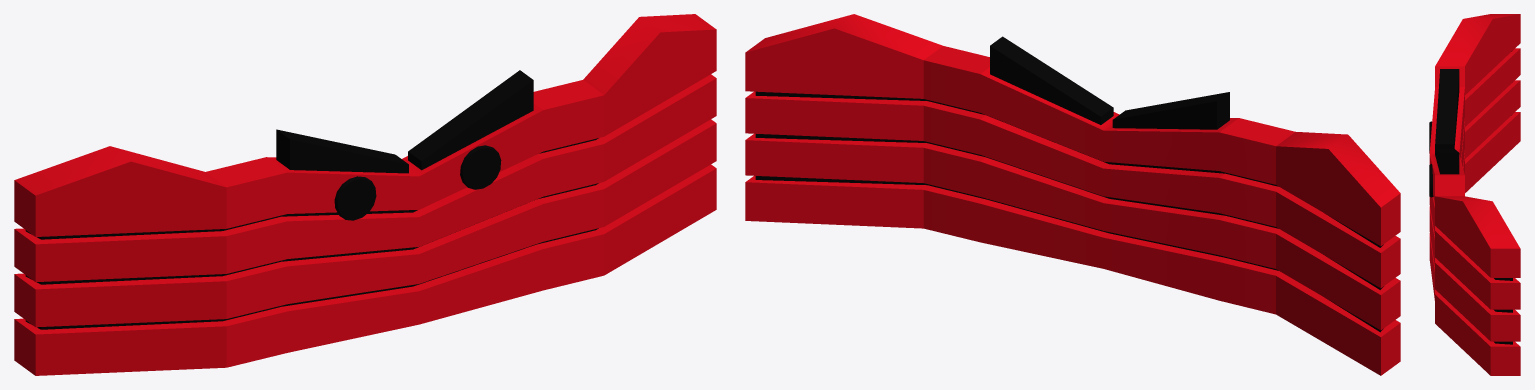
The model's file is Wall_New.fbx.
3 views of the same model, side by side, from view 1: azimuth 30°, elevation 25°; view 2: azimuth 150°, elevation 25°; view 3: azimuth 270°, elevation 25° (orthographic). The views are drawn at different scales.
Visible parts, largest first — view 1: Wall; view 2: Wall; view 3: Wall.
Boxes of the visible parts, <box> form: Wall: <box>14,14,716,375</box>; Wall: <box>745,14,1400,375</box>; Wall: <box>1429,14,1520,375</box>.
Size of the model in its own units: 532 by 157 by 87.23.
